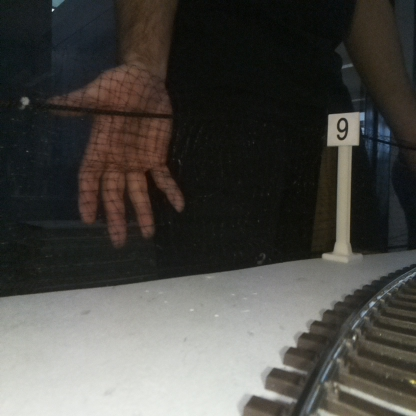white-info-9: (327, 111, 359, 257)
